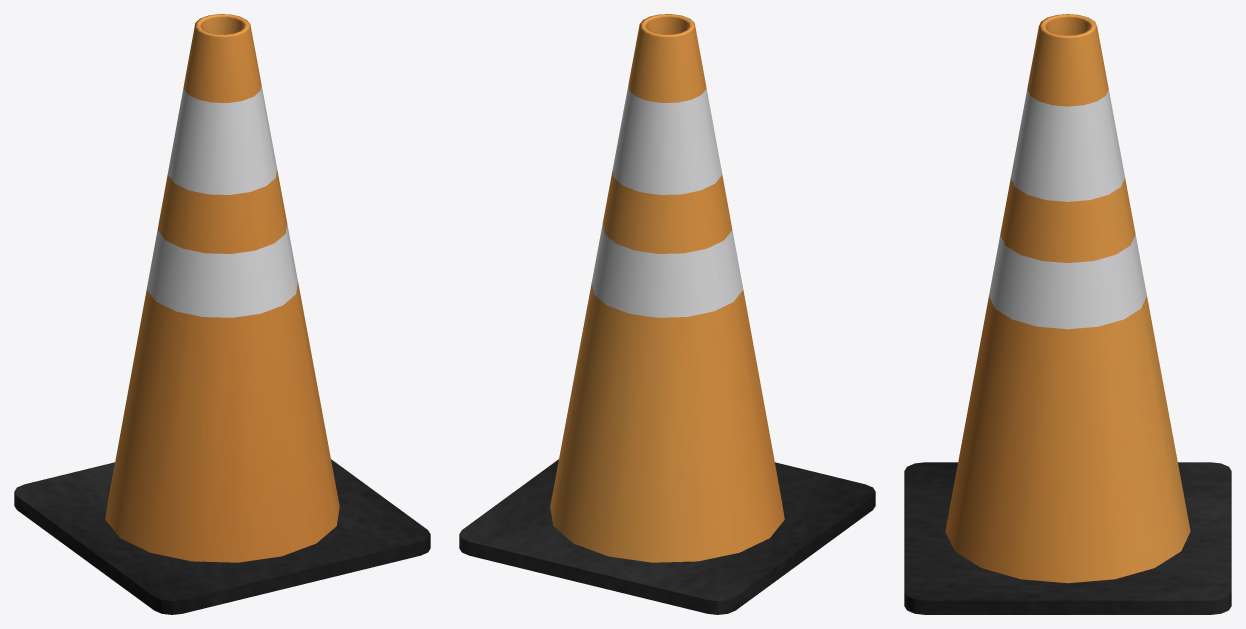
Rendered from ConeTraffic.fbx.
3 views of the same model, side by side, from view 1: azimuth 30°, elevation 25°; view 2: azimuth 150°, elevation 25°; view 3: azimuth 270°, elevation 25° (orthographic). The views are drawn at different scales.
Visible parts, largest first — view 1: ConeTraffic; view 2: ConeTraffic; view 3: ConeTraffic.
Part boxes in pixels (x1,y1,x2,y2): ConeTraffic: (14,14,430,614); ConeTraffic: (459,14,875,614); ConeTraffic: (904,14,1231,614).
Bounding box in the file's own units: 39.06 × 68.48 × 39.06.
Materials: 1 (1 with a texture image).
